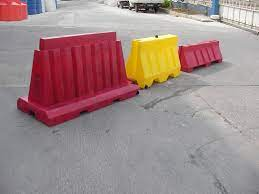barrier: (17, 29, 140, 126), (127, 33, 179, 95), (178, 38, 223, 74)
